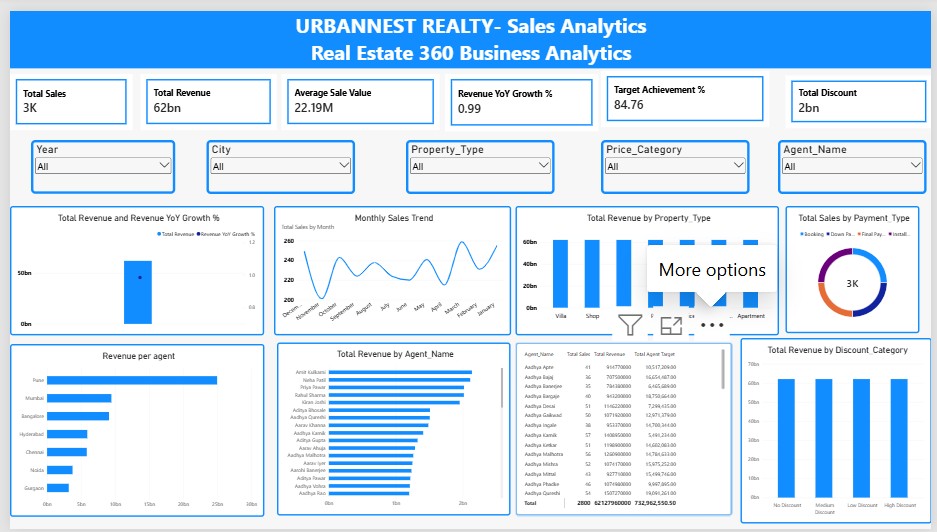

This screenshot's page, from the dashboard's own definition file:
{"tool":"powerbi","page":{"name":"03 - Sales Analytics.","canvas":[2560,1440],"ordinal":2},"visuals":[{"type":"cardVisual","fields":{"Data":["Fact_Sales.Total Revenue"]},"box":[362.7,175,378.6,155.9],"z":0},{"type":"cardVisual","fields":{"Data":["Fact_Sales.Average Sale Value"]},"box":[753.9,175,439,155.9],"z":1000},{"type":"cardVisual","fields":{"Data":["Dim_Date.Revenue YoY Growth %"]},"box":[1208.9,175,426.3,159.1],"z":2000},{"type":"cardVisual","fields":{"Data":["Dim_Agent.Target Achievement %"]},"box":[1641.5,168.6,467.6,155.9],"z":3000},{"type":"cardVisual","fields":{"Data":["Fact_Sales.Total Sales"]},"box":[0,175,340.4,156],"z":4000},{"type":"lineChart","title":"Monthly Sales  Trend","fields":{"Category":["Dim_Date.Date.Variation.Date Hierarchy.Month"],"Y":["Fact_Sales.Total Sales"]},"box":[731.7,540.8,658.5,359.5],"z":5000},{"type":"clusteredBarChart","title":"Revenue per agent","fields":{"Category":["Dim_Location.City"],"Y":["Fact_Sales.Total Revenue"]},"box":[0,925.7,706.8,480],"z":6000},{"type":"columnChart","fields":{"Category":["Dim_Property.Property_Type"],"Y":["Fact_Sales.Total Revenue"]},"box":[1402.9,540.8,731.7,359.5],"z":7000},{"type":"cardVisual","fields":{"Data":["Fact_Sales.Total Discount"]},"box":[2153.7,178.1,407.2,146.3],"z":8000},{"type":"textbox","title":"URBANNEST REALTY- Sales Analytics","box":[0,0,2560.9,159.1],"z":9000},{"type":"lineStackedColumnComboChart","fields":{"Y":["Fact_Sales.Total Revenue"],"Y2":["Dim_Date.Revenue YoY Growth %"]},"box":[0,540.8,706.2,359.5],"z":10000},{"type":"barChart","fields":{"Category":["Dim_Agent.Agent_Name"],"Y":["Fact_Sales.Total Revenue"]},"box":[741.2,919.4,649,480.4],"z":11000},{"type":"pivotTable","fields":{"Rows":["Dim_Agent.Agent_Name"],"Values":["Fact_Sales.Total Sales","Fact_Sales.Total Revenue","Dim_Agent.Total Agent Target"]},"box":[1402.9,919.4,601.3,480.4],"z":12000},{"type":"columnChart","fields":{"Category":["Sales_Property_Analysis.Discount_Category "],"Y":["Fact_Sales.Total Revenue"]},"box":[2029.6,906.6,531.3,515.4],"z":13000},{"type":"donutChart","fields":{"Category":["Fact_Payments.Payment_Type"],"Y":["Fact_Sales.Total Sales"]},"box":[2153.7,540.8,372.2,353.1],"z":14000},{"type":"slicer","fields":{"Values":["Dim_Date.Date.Variation.Date Hierarchy.Year"]},"box":[57.3,359.5,400.8,149.5],"z":15000},{"type":"slicer","fields":{"Values":["Dim_Property.Property_Type"]},"box":[1100,358.3,412.5,150],"z":16000},{"type":"slicer","fields":{"Values":["Dim_Property.Price_Category "]},"box":[1641.7,358.3,412.5,150],"z":17000},{"type":"slicer","fields":{"Values":["Dim_Agent.Agent_Name"]},"box":[2133.3,358.3,412.5,150],"z":18000},{"type":"slicer","fields":{"Values":["Dim_Location.City"]},"box":[545.8,358.3,412.5,150],"z":19000}]}

Visuals, with their boxes in screenshot pixels (x1, y1, x2, y2), scaled from the page's 2560x1440 canvas onto the 937x532 screenshot:
cardVisual - Fact_Sales.Total Revenue: <bbox>133, 65, 271, 122</bbox>
cardVisual - Fact_Sales.Average Sale Value: <bbox>276, 65, 437, 122</bbox>
cardVisual - Dim_Date.Revenue YoY Growth %: <bbox>442, 65, 599, 123</bbox>
cardVisual - Dim_Agent.Target Achievement %: <bbox>601, 62, 772, 120</bbox>
cardVisual - Fact_Sales.Total Sales: <bbox>0, 65, 125, 122</bbox>
"Monthly Sales  Trend" lineChart: <bbox>268, 200, 509, 333</bbox>
"Revenue per agent" clusteredBarChart: <bbox>0, 342, 259, 519</bbox>
columnChart - Dim_Property.Property_Type x Fact_Sales.Total Revenue: <bbox>513, 200, 781, 333</bbox>
cardVisual - Fact_Sales.Total Discount: <bbox>788, 66, 936, 120</bbox>
"URBANNEST REALTY- Sales Analytics" textbox: <bbox>0, 0, 936, 59</bbox>
lineStackedColumnComboChart - Fact_Sales.Total Revenue x Dim_Date.Revenue YoY Growth %: <bbox>0, 200, 258, 333</bbox>
barChart - Dim_Agent.Agent_Name x Fact_Sales.Total Revenue: <bbox>271, 340, 509, 517</bbox>
pivotTable - Dim_Agent.Agent_Name x Fact_Sales.Total Sales: <bbox>513, 340, 734, 517</bbox>
columnChart - Sales_Property_Analysis.Discount_Category  x Fact_Sales.Total Revenue: <bbox>743, 335, 936, 525</bbox>
donutChart - Fact_Payments.Payment_Type x Fact_Sales.Total Sales: <bbox>788, 200, 925, 330</bbox>
slicer - Dim_Date.Date.Variation.Date Hierarchy.Year: <bbox>21, 133, 168, 188</bbox>
slicer - Dim_Property.Property_Type: <bbox>403, 132, 554, 188</bbox>
slicer - Dim_Property.Price_Category : <bbox>601, 132, 752, 188</bbox>
slicer - Dim_Agent.Agent_Name: <bbox>781, 132, 932, 188</bbox>
slicer - Dim_Location.City: <bbox>200, 132, 351, 188</bbox>
